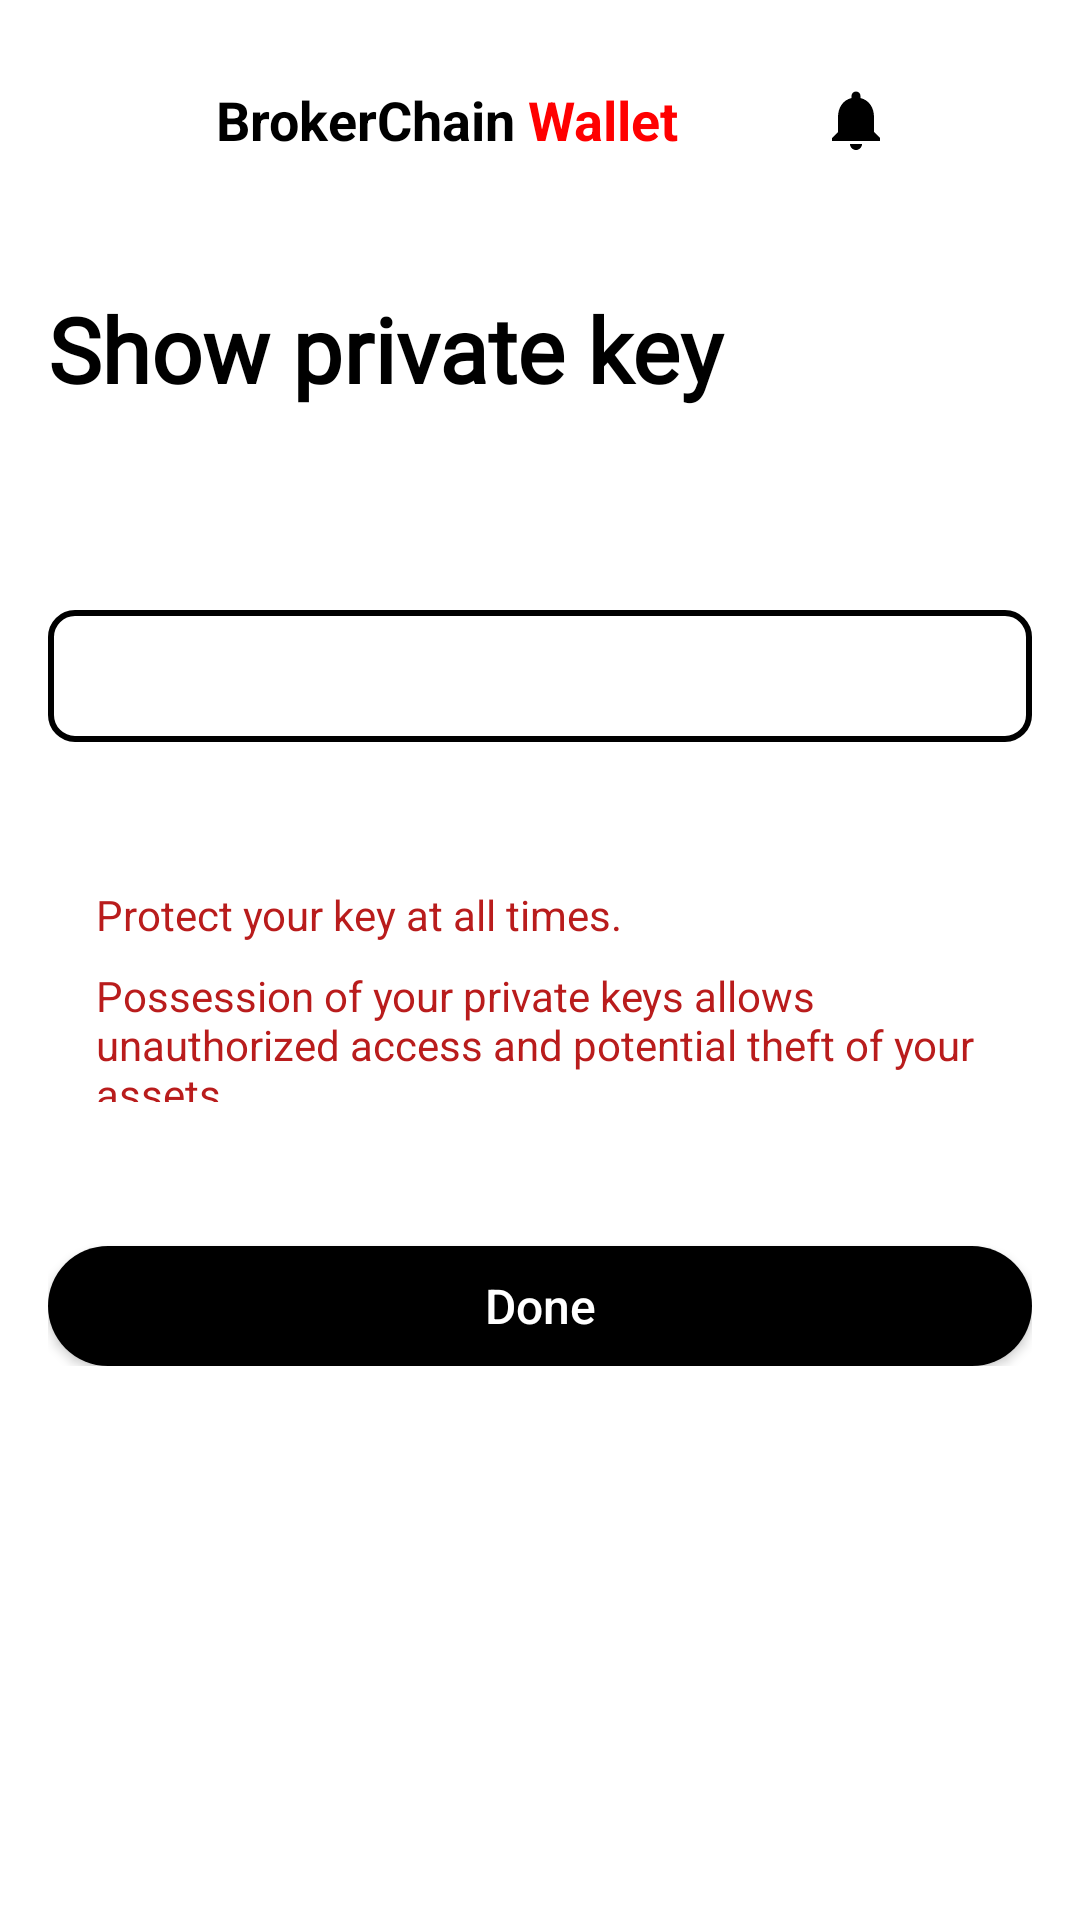

Named icons in this screenshot (1080px×1920px) and their centers, [x,y]:
Notifications: [856,120]
